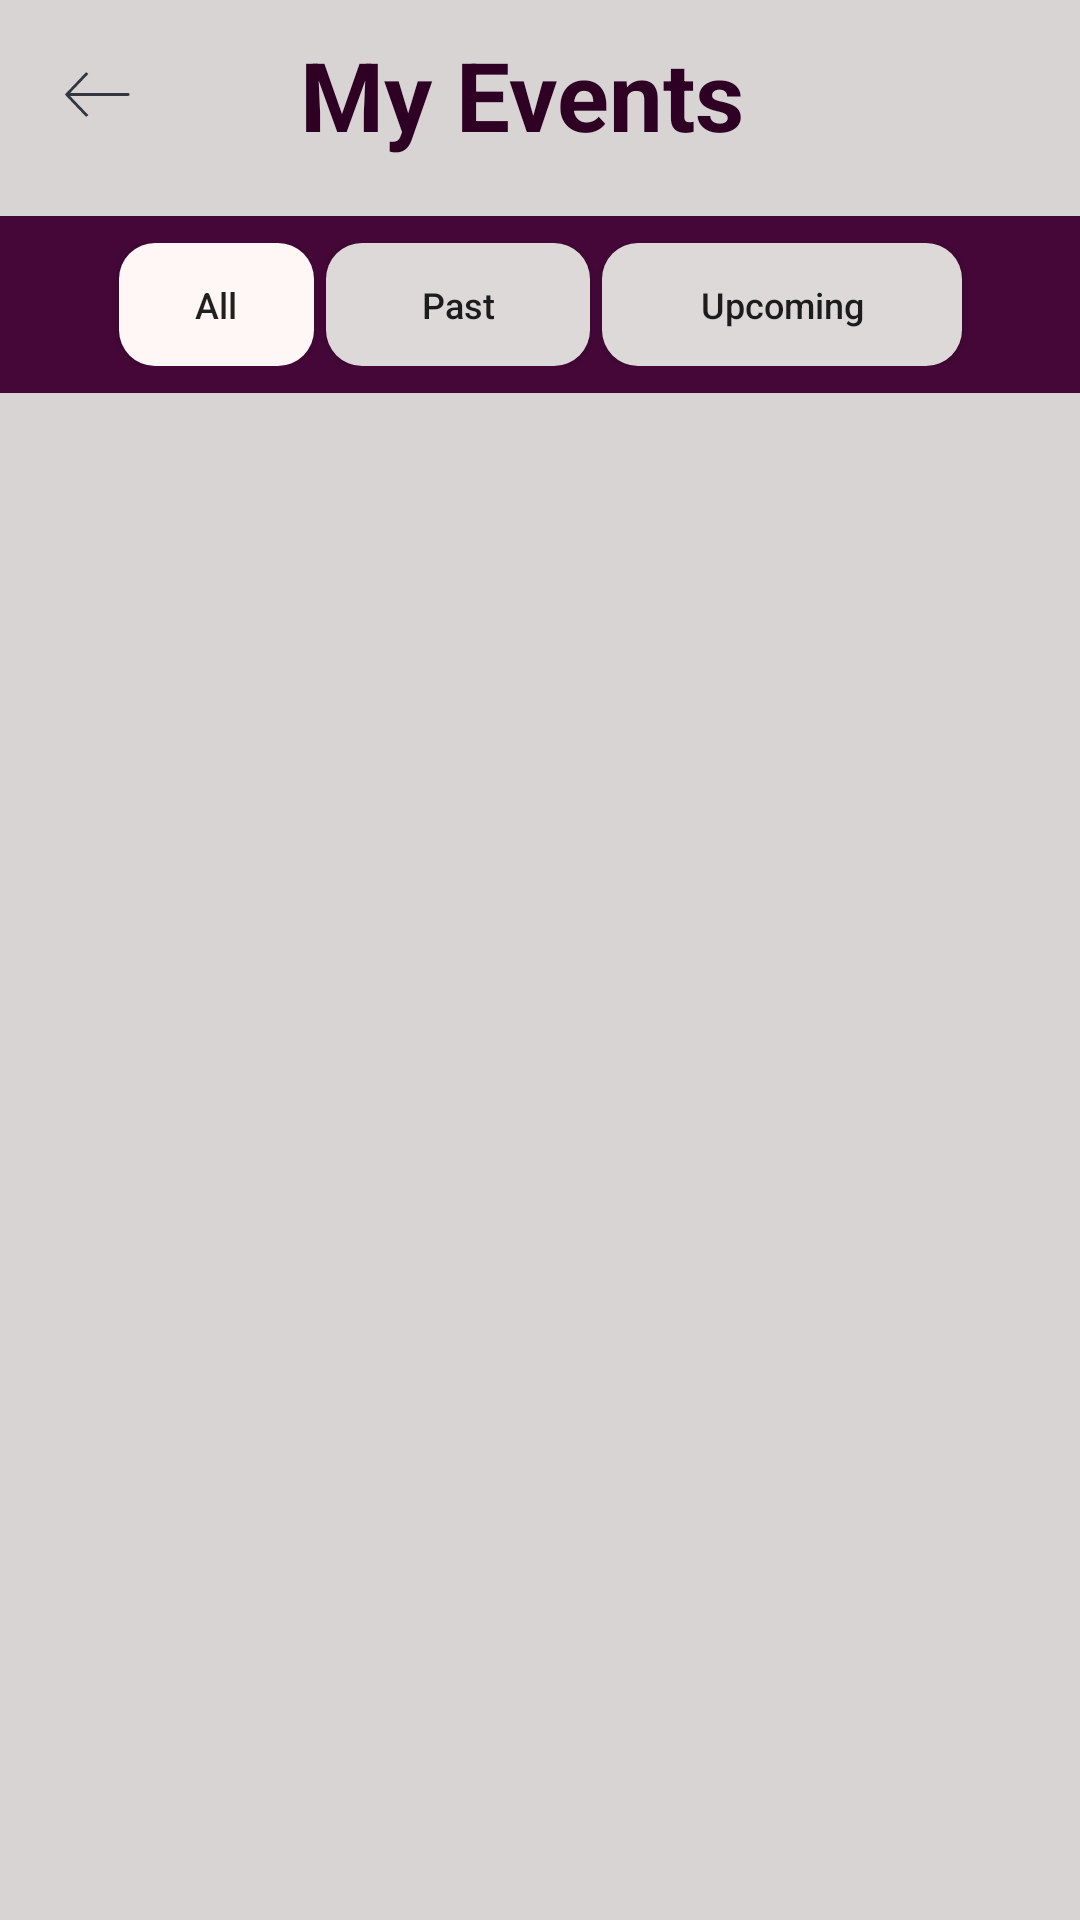

Where to tap for icons on this 1080x1920 app screen, as [x,y]:
leftarrow: [97,94]
